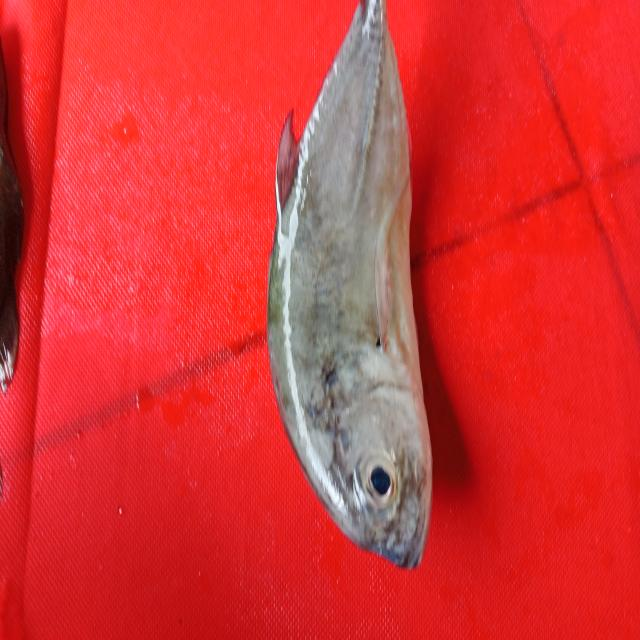ikan: (265, 0, 435, 570)
